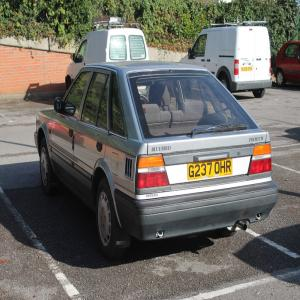Vehicle-registration-plate: (188, 160, 234, 182)
